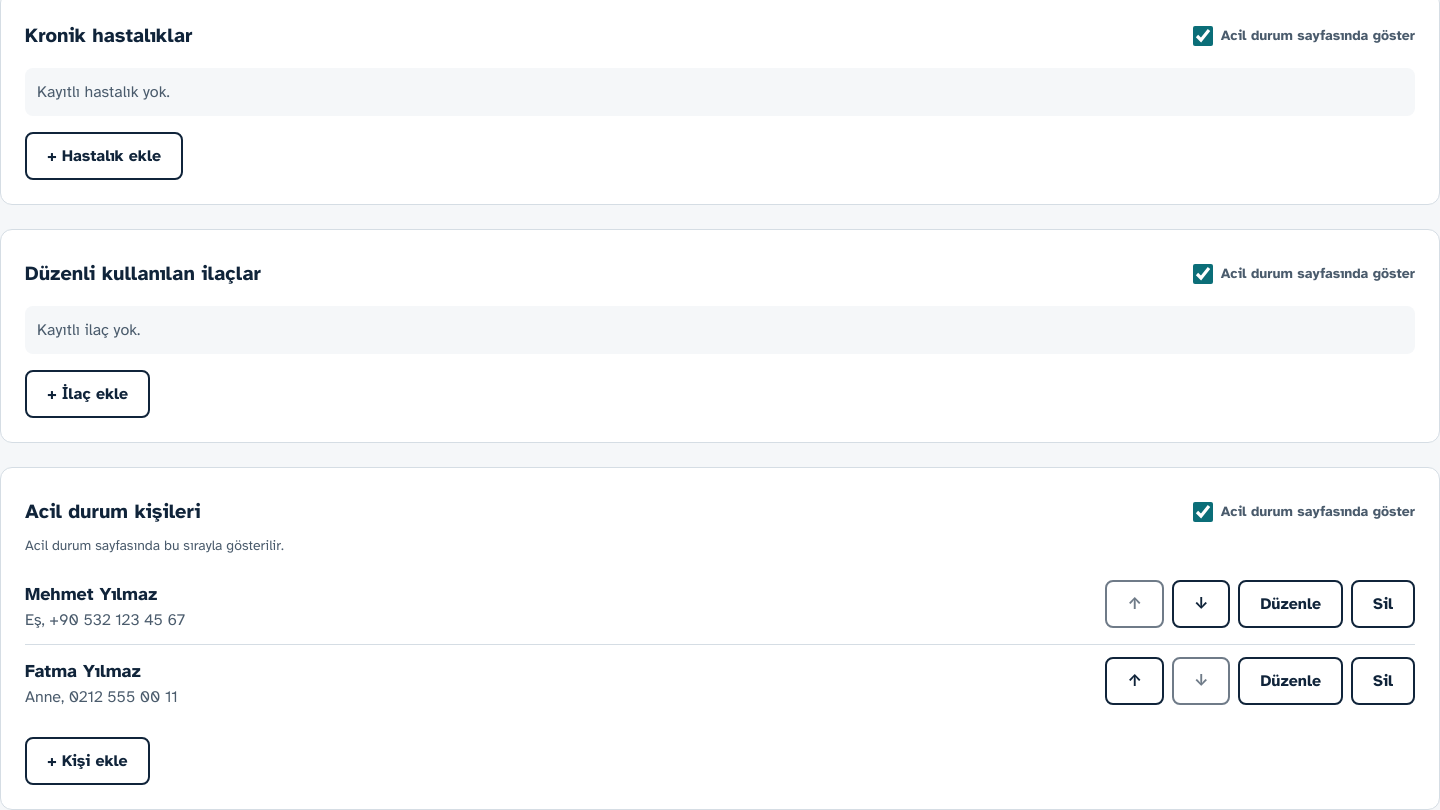
it: Sağlık profili sayfası › acil durum kişilerini yeniden sıralar
The image size is (1440, 810).
(page scrolled)
Expected: the button named "Mehmet Yılmaz kişisini yukarı taşı" is disabled, 1105,580 -> 1164,628
Expected: the button named "Fatma Yılmaz kişisini aşağı taşı" is disabled, 1172,657 -> 1230,705
Click the button named "Mehmet Yılmaz kişisini aşağı taşı" at (1201, 604), box 1172,580 -> 1230,628
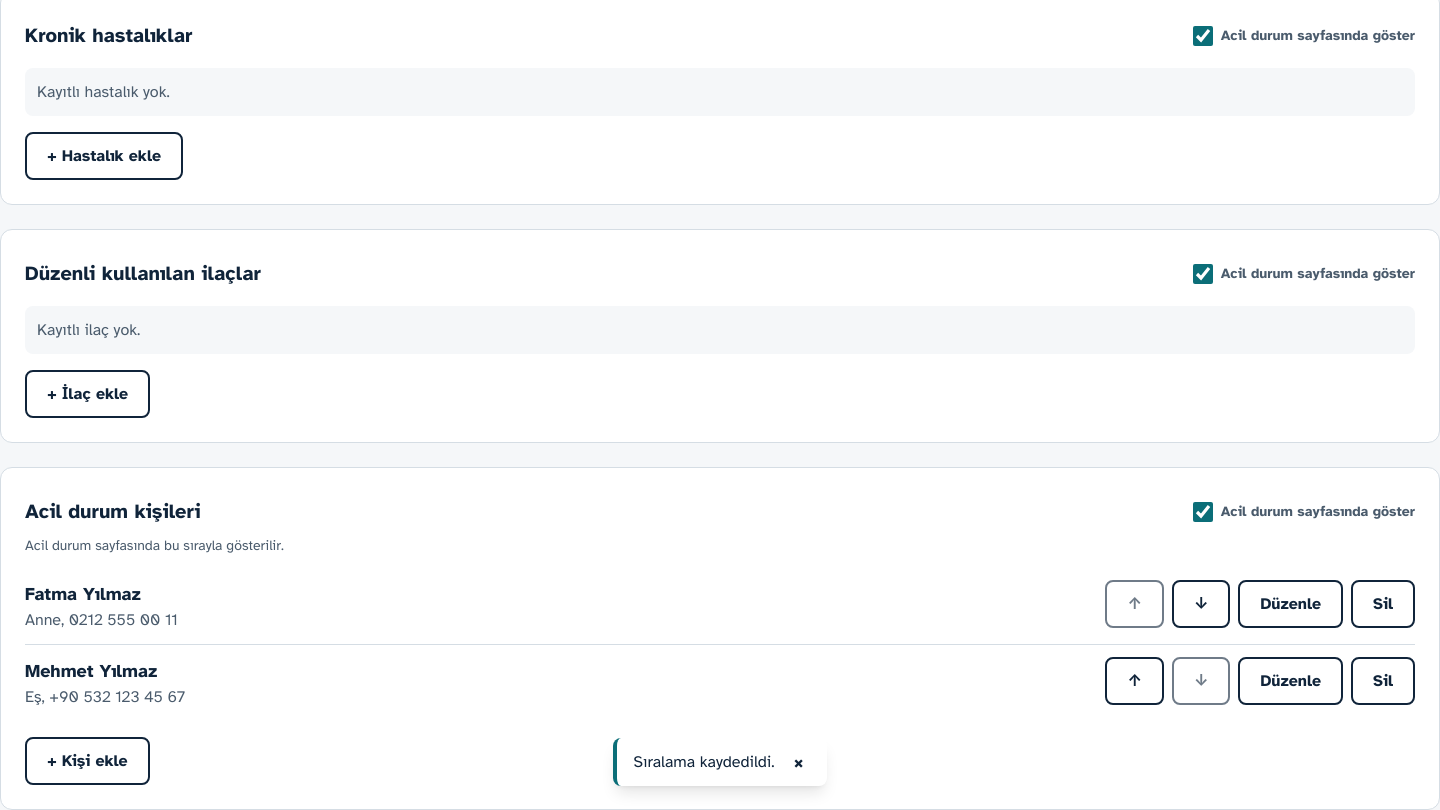
Expected: the element showing "Fatma Yılmaz Anne, 0212 555 00 11 ↑ ↓ Düzenle Sil" is shown, 25,580 -> 1415,632
Expected: the text "Sıralama kaydedildi." is shown, 634,750 -> 774,774
